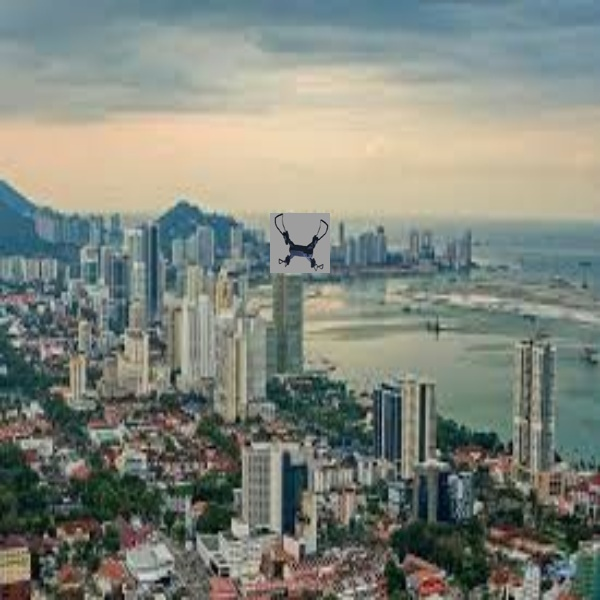drone: (265, 214, 333, 272)
